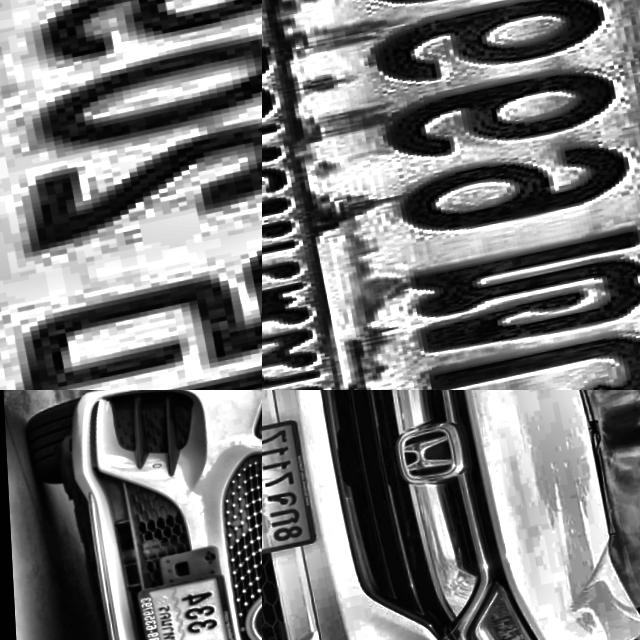license-plate: (262, 0, 640, 390), (0, 0, 262, 390), (262, 418, 316, 562), (132, 571, 244, 640)
